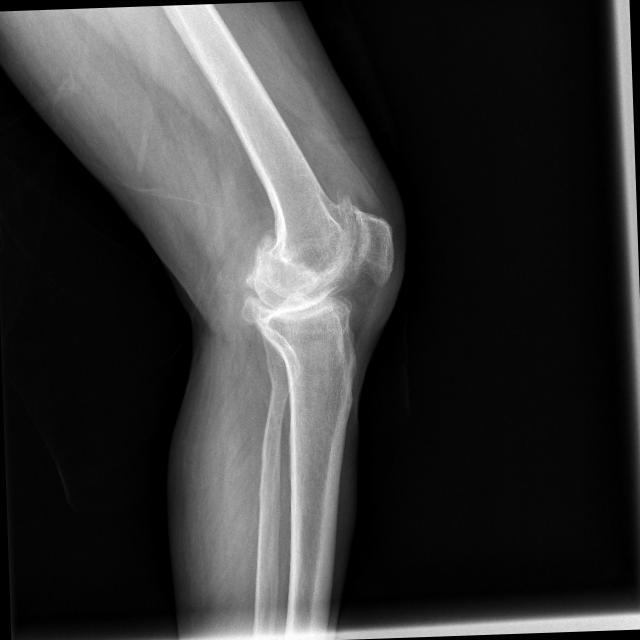Knee: (232, 190, 398, 360)
